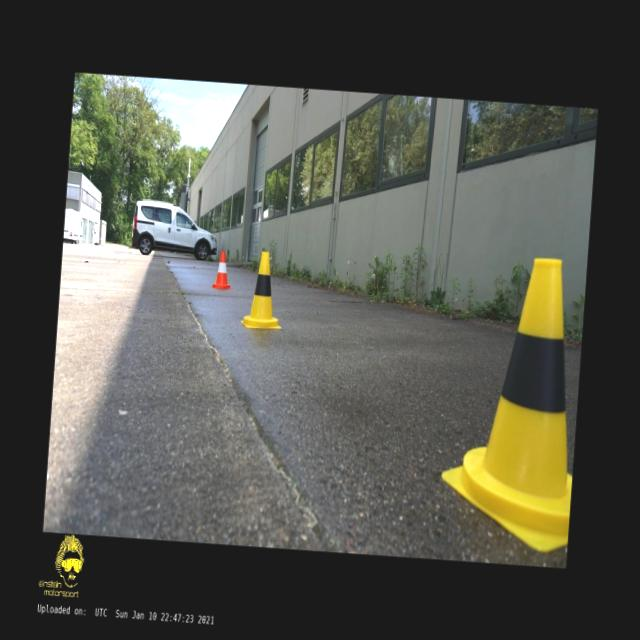orange_cone: (210, 250, 234, 290)
yellow_cone: (436, 251, 586, 554), (240, 250, 286, 330)
